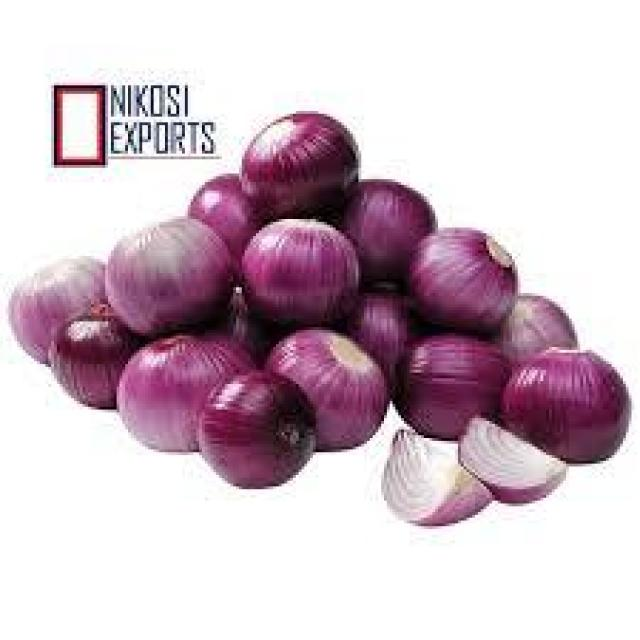Onion: (0, 215, 236, 411), (110, 333, 320, 495), (101, 218, 235, 388), (267, 328, 398, 456), (506, 333, 629, 466), (450, 394, 574, 516), (236, 218, 367, 332), (237, 105, 360, 225), (405, 230, 522, 338), (391, 330, 516, 429), (380, 420, 485, 530), (337, 176, 437, 279), (187, 171, 260, 276), (506, 290, 583, 367)
